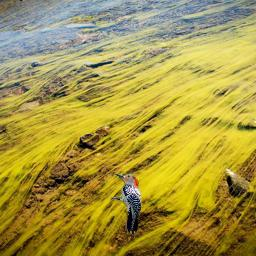Woodpecker: (110, 174, 141, 235)
